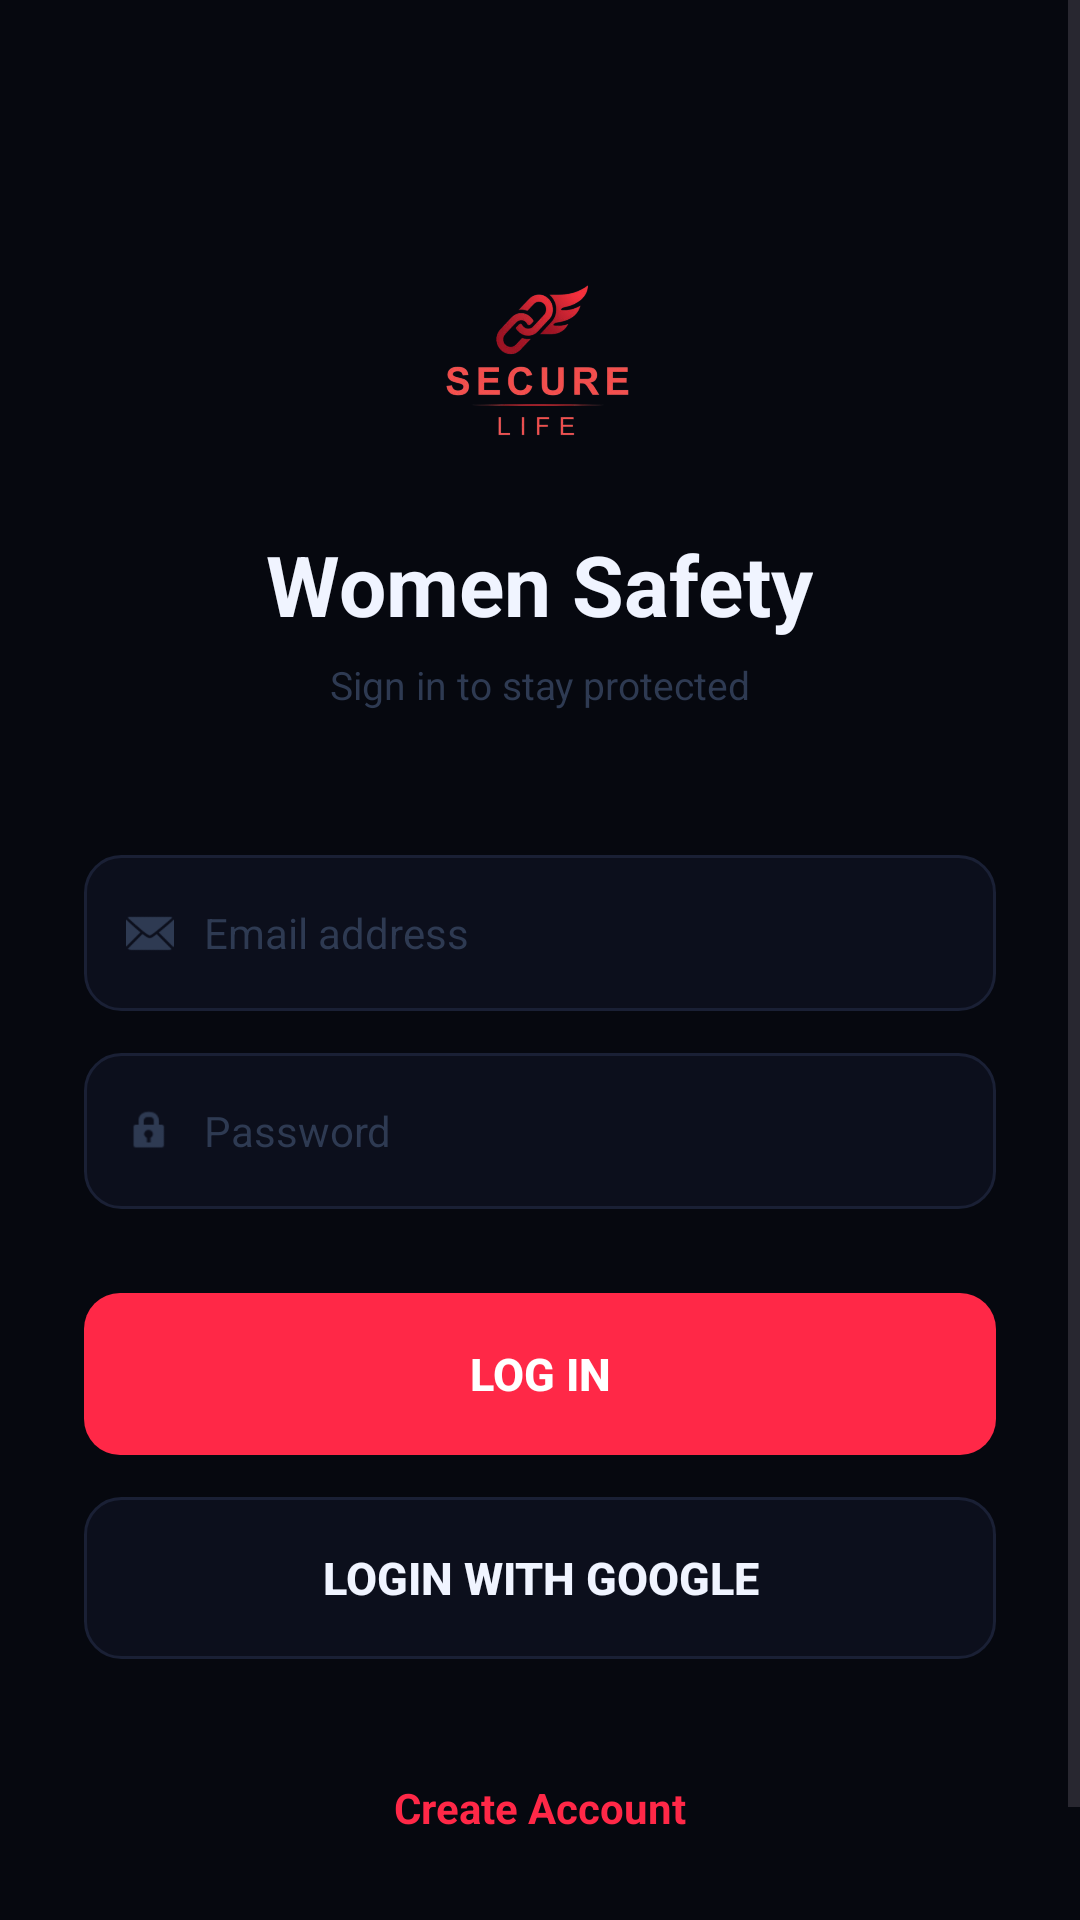

Icons on this 1080×1920 Android screen, each with its box as [x1, y1, x2, y2]:
lock idle: [134, 1112, 164, 1147]
